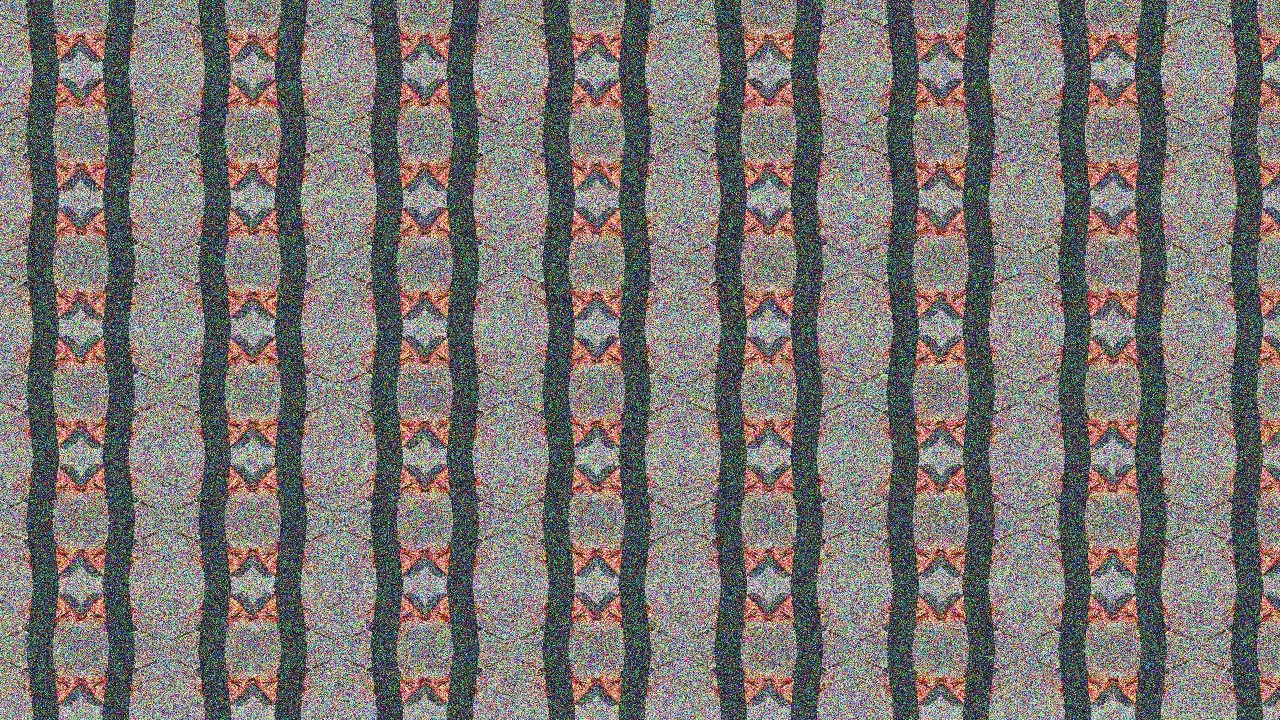chock: (23, 25, 79, 69), (79, 25, 135, 69), (195, 25, 251, 69), (251, 25, 307, 69), (368, 25, 424, 69), (424, 25, 480, 69), (541, 25, 597, 69), (597, 25, 653, 69), (713, 25, 769, 69), (769, 25, 825, 69), (886, 25, 942, 69), (942, 25, 998, 69), (1059, 25, 1115, 69), (1115, 25, 1171, 69), (23, 69, 79, 113), (79, 69, 135, 113), (195, 69, 251, 113), (251, 69, 307, 113), (368, 69, 424, 113), (424, 69, 480, 113), (541, 69, 597, 113), (597, 69, 653, 113), (713, 69, 769, 113), (769, 69, 825, 113), (886, 69, 942, 113), (942, 69, 998, 113), (1059, 69, 1115, 113), (1115, 69, 1171, 113), (23, 198, 79, 242), (79, 198, 135, 242), (195, 198, 251, 242), (251, 198, 307, 242), (368, 198, 424, 242), (424, 198, 480, 242), (541, 198, 597, 242), (597, 198, 653, 242), (713, 198, 769, 242), (769, 198, 825, 242), (886, 198, 942, 242), (942, 198, 998, 242), (1059, 198, 1115, 242), (1115, 198, 1171, 242), (23, 284, 79, 328), (79, 284, 135, 328), (195, 284, 251, 328), (251, 284, 307, 328), (368, 284, 424, 328), (424, 284, 480, 328), (541, 284, 597, 328), (597, 284, 653, 328), (713, 284, 769, 328), (769, 284, 825, 328), (886, 284, 942, 328), (942, 284, 998, 328), (1059, 284, 1115, 328), (1115, 284, 1171, 328), (23, 413, 79, 457), (79, 413, 135, 457), (195, 413, 251, 457), (251, 413, 307, 457), (368, 413, 424, 457), (424, 413, 480, 457), (541, 413, 597, 457), (597, 413, 653, 457), (713, 413, 769, 457), (769, 413, 825, 457), (886, 413, 942, 457), (942, 413, 998, 457), (1059, 413, 1115, 457), (1115, 413, 1171, 457), (23, 457, 79, 501), (79, 457, 135, 501), (195, 457, 251, 501), (251, 457, 307, 501), (368, 457, 424, 501), (424, 457, 480, 501), (541, 457, 597, 501), (597, 457, 653, 501), (713, 457, 769, 501), (769, 457, 825, 501), (886, 457, 942, 501), (942, 457, 998, 501), (1059, 457, 1115, 501), (1115, 457, 1171, 501), (23, 586, 79, 630), (79, 586, 135, 630), (195, 586, 251, 630), (251, 586, 307, 630), (368, 586, 424, 630), (424, 586, 480, 630), (541, 586, 597, 630), (597, 586, 653, 630), (713, 586, 769, 630), (769, 586, 825, 630), (886, 586, 942, 630), (942, 586, 998, 630), (1059, 586, 1115, 630), (1115, 586, 1171, 630), (23, 672, 79, 716), (79, 672, 135, 716), (195, 672, 251, 716), (251, 672, 307, 716), (368, 672, 424, 716), (424, 672, 480, 716), (541, 672, 597, 716), (597, 672, 653, 716), (713, 672, 769, 716), (769, 672, 825, 716), (886, 672, 942, 716), (942, 672, 998, 716), (1059, 672, 1115, 716), (1115, 672, 1171, 716), (23, 155, 79, 198), (79, 155, 135, 198), (195, 155, 251, 198), (251, 155, 307, 198), (368, 155, 424, 198), (424, 155, 480, 198), (541, 155, 597, 198), (597, 155, 653, 198), (713, 155, 769, 198), (769, 155, 825, 198), (886, 155, 942, 198), (942, 155, 998, 198), (1059, 155, 1115, 198), (1115, 155, 1171, 198), (23, 328, 79, 371), (79, 328, 135, 371), (195, 328, 251, 371), (251, 328, 307, 371), (368, 328, 424, 371), (424, 328, 480, 371), (541, 328, 597, 371), (597, 328, 653, 371), (713, 328, 769, 371), (769, 328, 825, 371), (886, 328, 942, 371), (942, 328, 998, 371), (1059, 328, 1115, 371), (1115, 328, 1171, 371), (23, 543, 79, 586), (79, 543, 135, 586), (195, 543, 251, 586), (251, 543, 307, 586), (368, 543, 424, 586), (424, 543, 480, 586), (541, 543, 597, 586), (597, 543, 653, 586), (713, 543, 769, 586), (769, 543, 825, 586), (886, 543, 942, 586), (942, 543, 998, 586), (1059, 543, 1115, 586), (1115, 543, 1171, 586), (1231, 25, 1280, 69), (1231, 69, 1280, 113), (1231, 198, 1280, 242), (1231, 284, 1280, 328), (1231, 413, 1280, 457), (1231, 457, 1280, 501), (1231, 586, 1280, 630), (1231, 672, 1280, 716), (1231, 155, 1280, 198), (1231, 328, 1280, 371), (1231, 543, 1280, 586), (23, 716, 79, 720), (79, 716, 135, 720), (195, 716, 251, 720), (251, 716, 307, 720), (368, 716, 424, 720), (424, 716, 480, 720), (541, 716, 597, 720), (597, 716, 653, 720), (713, 716, 769, 720), (769, 716, 825, 720), (886, 716, 942, 720), (942, 716, 998, 720), (1059, 716, 1115, 720), (1115, 716, 1171, 720), (1231, 716, 1280, 720)
